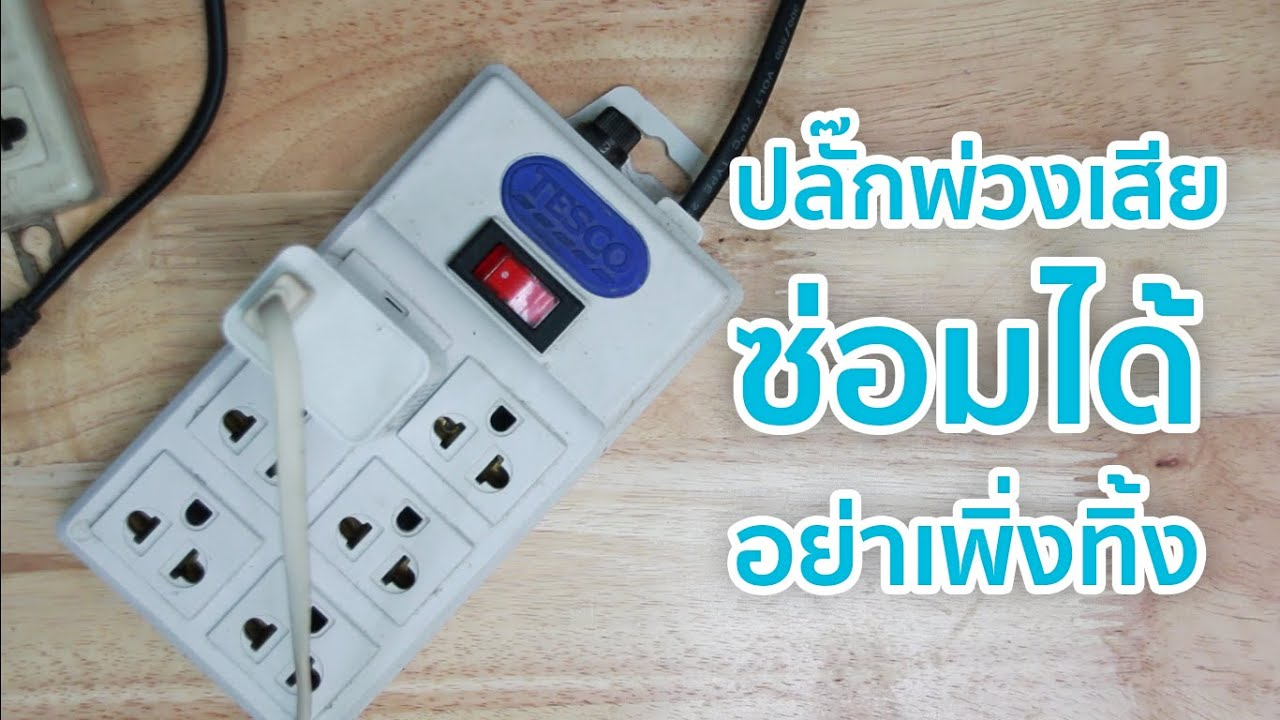Three_eye_plug: (48, 55, 757, 720)
